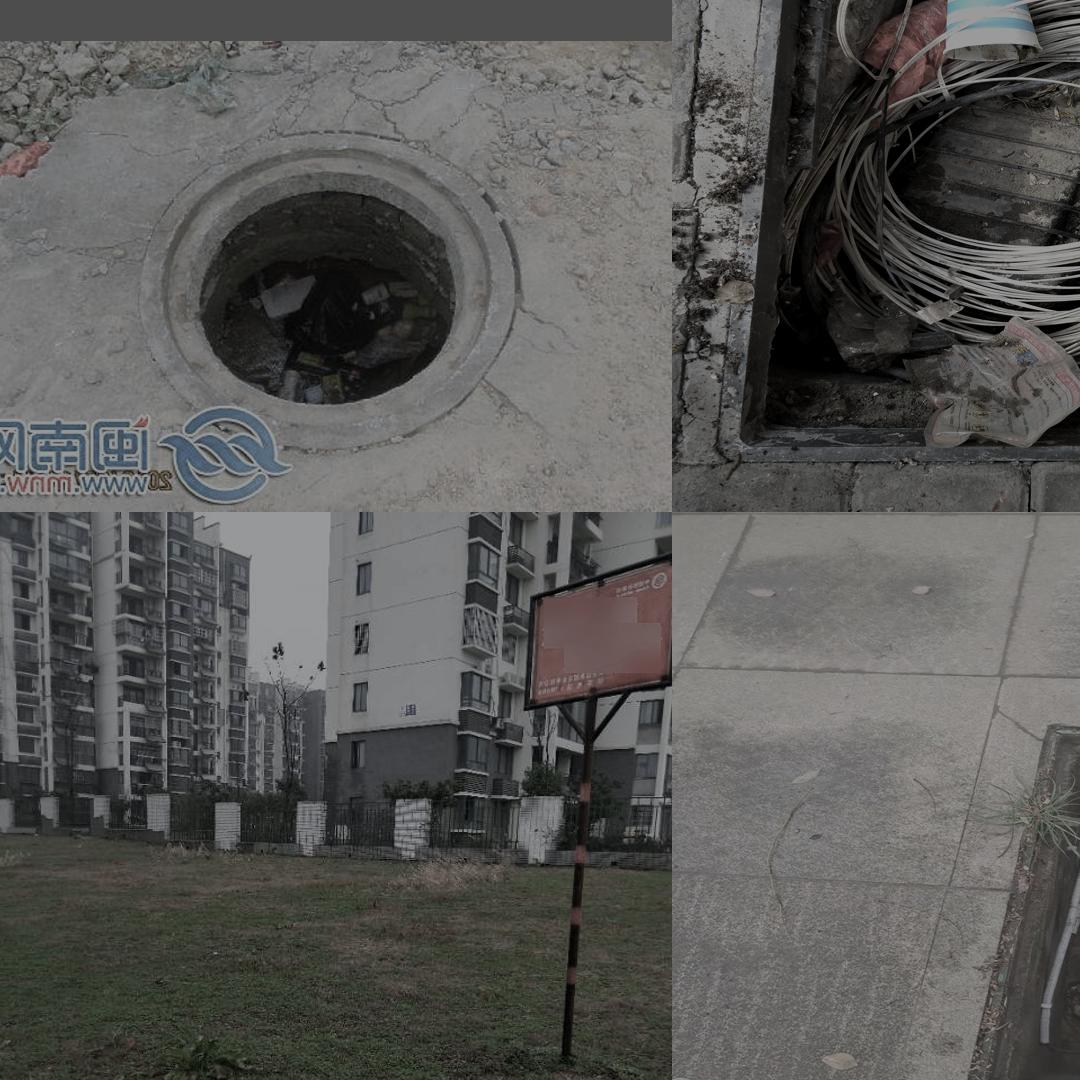lose: (721, 0, 1080, 468), (130, 127, 517, 458), (973, 725, 1080, 1080)
